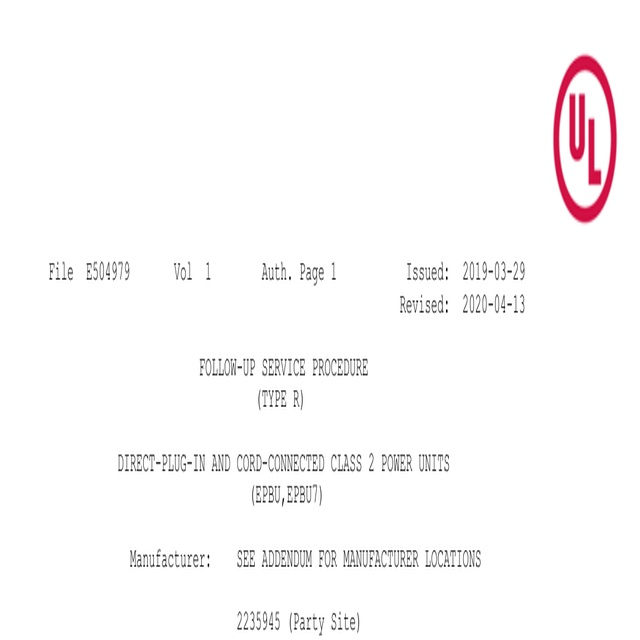ul: (556, 55, 617, 225)
